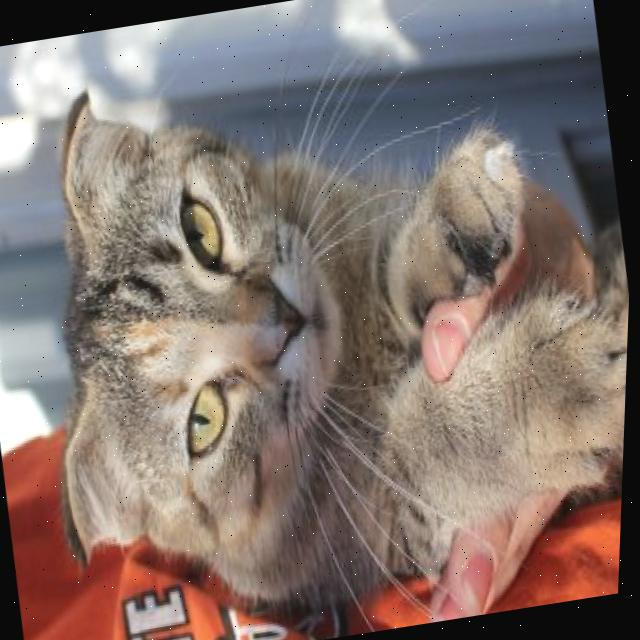Scottish Fold: (0, 6, 640, 640)
